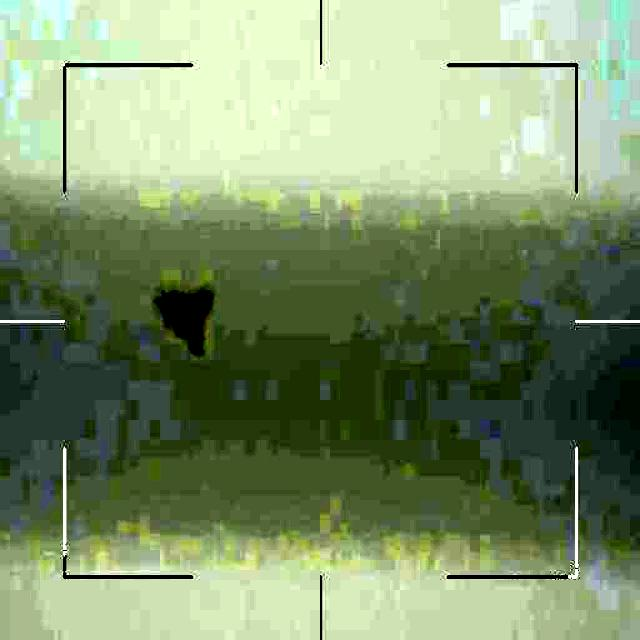bird: (152, 281, 222, 359)
